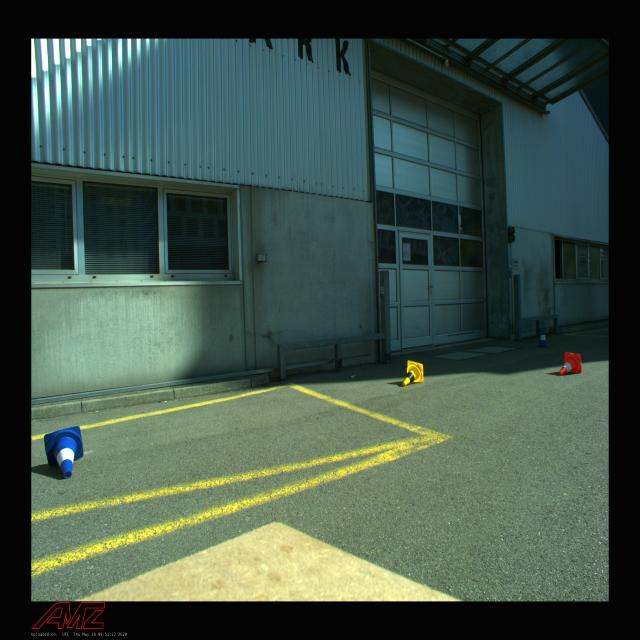blue_cone: (44, 426, 84, 478), (536, 330, 550, 348)
orange_cone: (560, 352, 582, 376)
yellow_cone: (402, 361, 423, 386)
